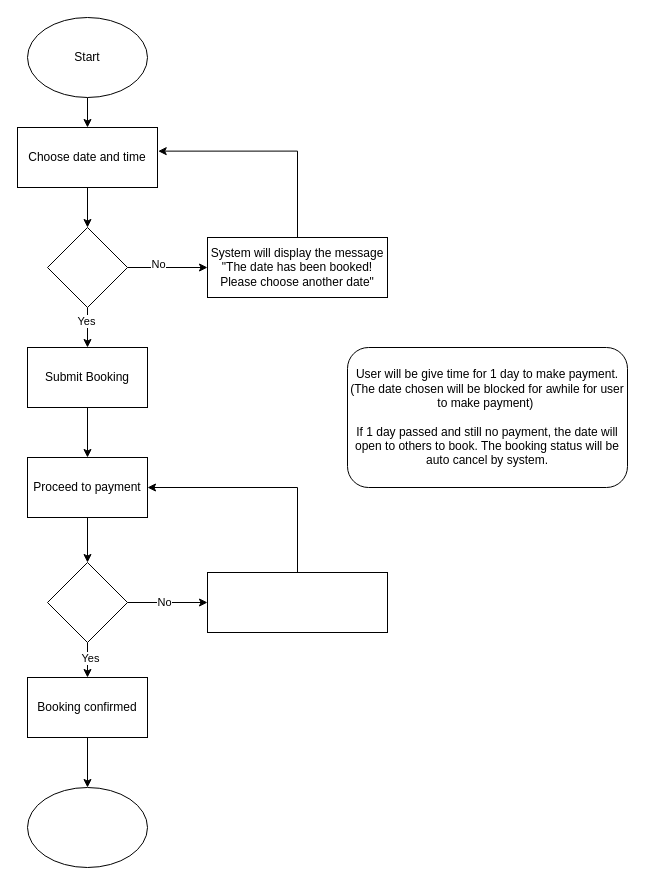
The diagram is 645 pixels wide and 885 high, and some of its shapes have lost their labels. The centre of each missing label's shape, as x and y in pixels:
"Available?" belongs at point (87, 267).
"Booking is pending for payment" belongs at point (297, 602).
"End" belongs at point (87, 827).
"Payment Success?" belongs at point (87, 602).
